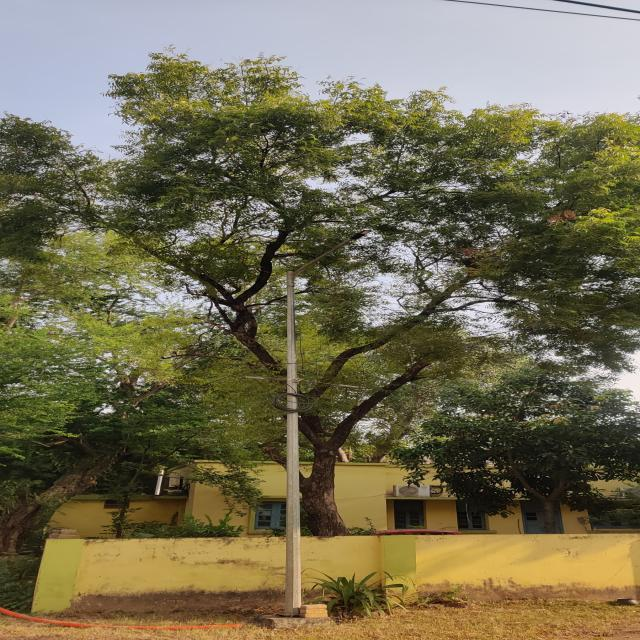Neem Tree: (34, 48, 628, 580)
